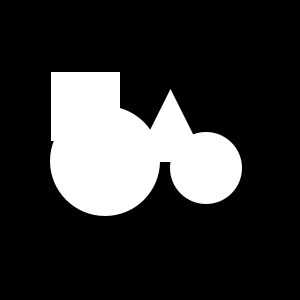circle: (51, 72, 120, 141)
rectangle: (50, 106, 160, 216), (170, 132, 242, 204)
triangle: (134, 89, 207, 162)
